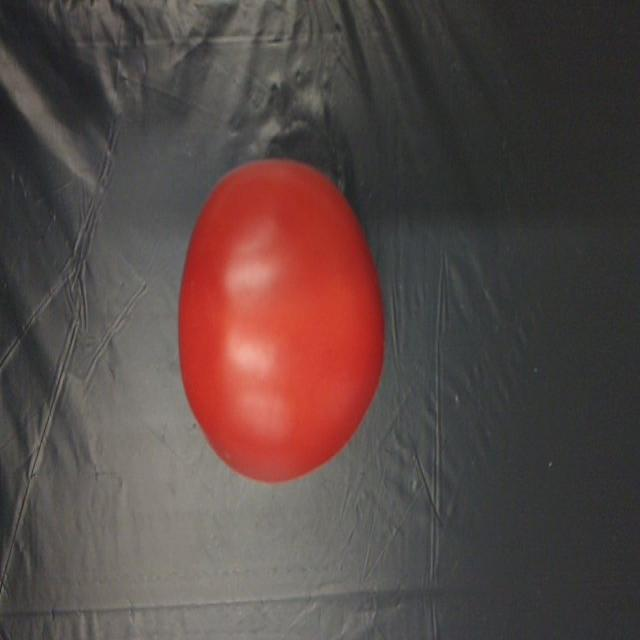kirmizi: (168, 128, 392, 497)
